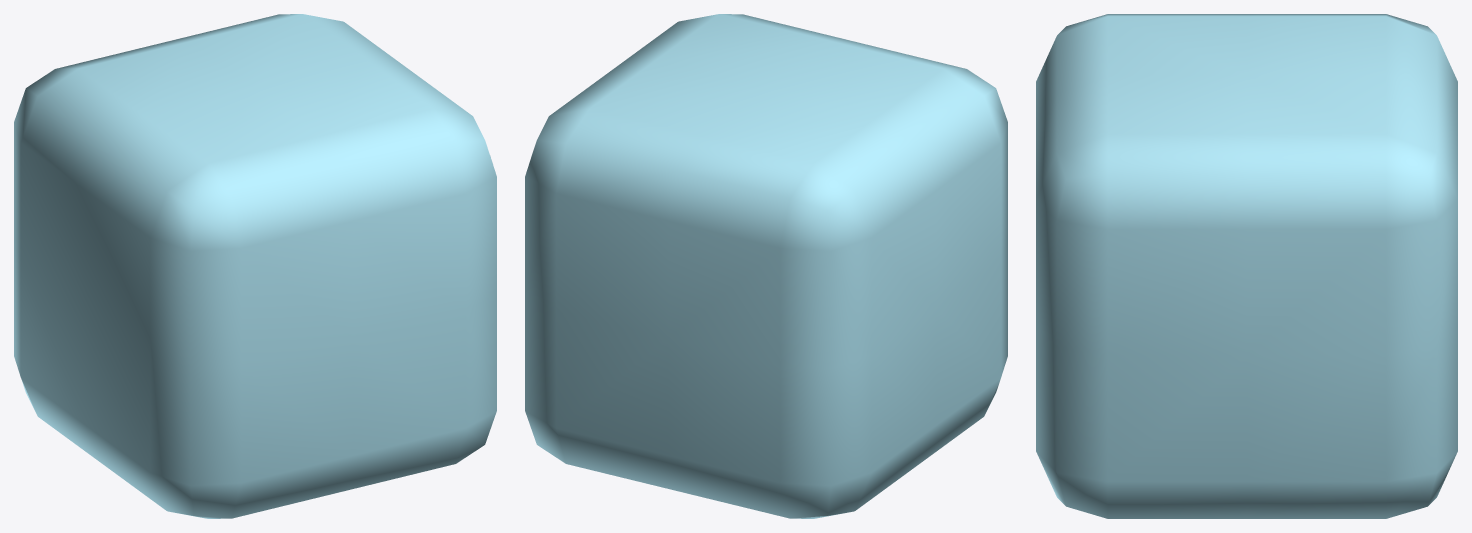
File: StruggleOrbCube.glb
3 renders of one model, left to right at view 1: azimuth 30°, elevation 25°; view 2: azimuth 150°, elevation 25°; view 3: azimuth 270°, elevation 25°, orthographic. The views are drawn at different scales.
Visible parts, largest first — view 1: Orb; view 2: Orb; view 3: Orb.
Boxes of the visible parts, left/top/right/bottom form: Orb: left=14, top=14, right=496, bottom=518; Orb: left=525, top=14, right=1007, bottom=518; Orb: left=1036, top=14, right=1457, bottom=518.
Size of the model in its own units: 1.3 by 1.3 by 1.3.
